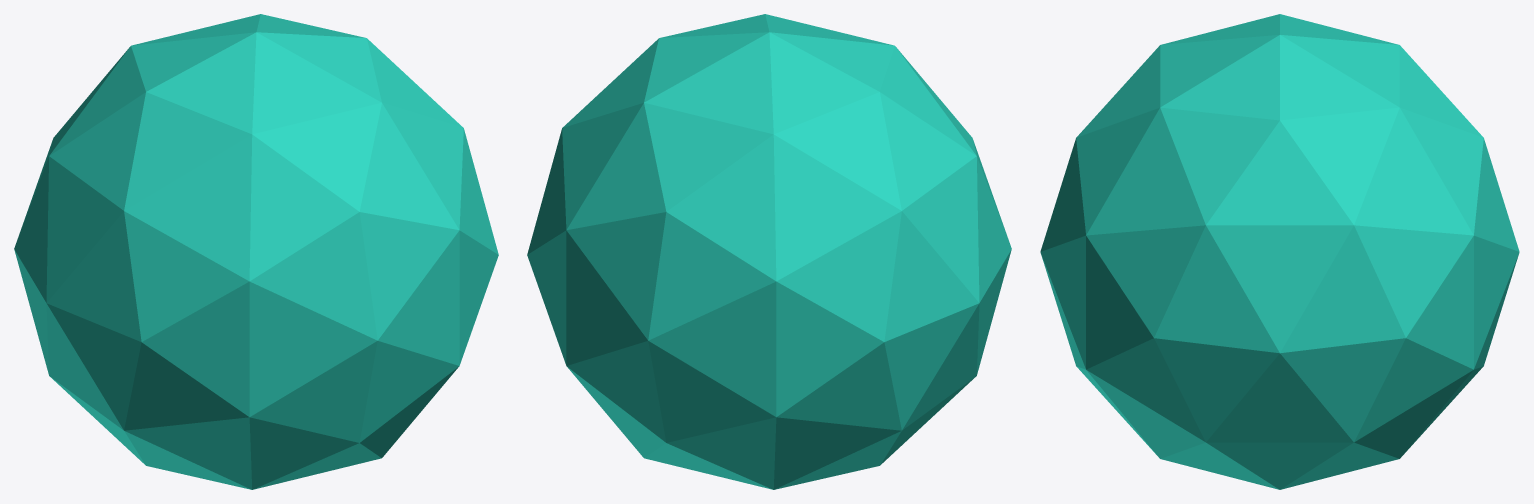
File: crystal.glb
3 views of the same model, side by side, from view 1: azimuth 30°, elevation 25°; view 2: azimuth 150°, elevation 25°; view 3: azimuth 270°, elevation 25° (orthographic).
Parts seen in each view (by area): view 1: Crystal; view 2: Crystal; view 3: Crystal.
Part boxes in pixels (x1=…): Crystal: x1=14, y1=14, x2=498, y2=489; Crystal: x1=527, y1=14, x2=1011, y2=489; Crystal: x1=1040, y1=14, x2=1519, y2=489.
Size of the model in its own units: 2 by 2 by 2.
